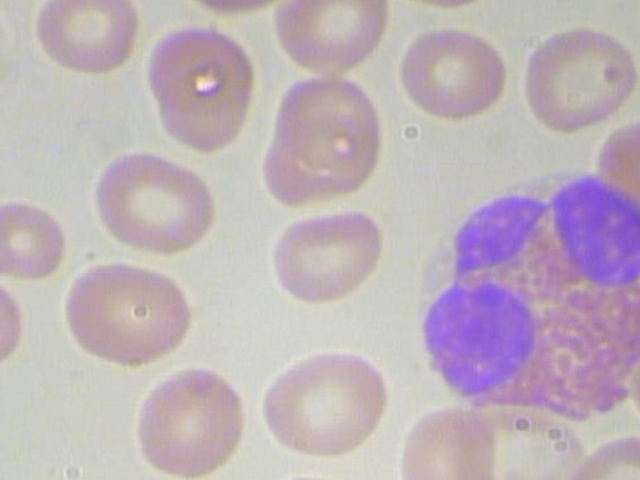RBC: (137, 21, 265, 156), (87, 144, 225, 267), (116, 358, 254, 480), (258, 339, 396, 461), (61, 256, 200, 370), (509, 21, 640, 135), (265, 203, 391, 309), (390, 24, 516, 129), (262, 0, 392, 81), (32, 0, 144, 82), (0, 191, 69, 284), (0, 267, 29, 377), (368, 0, 493, 14)
WBC: (396, 167, 640, 420)
